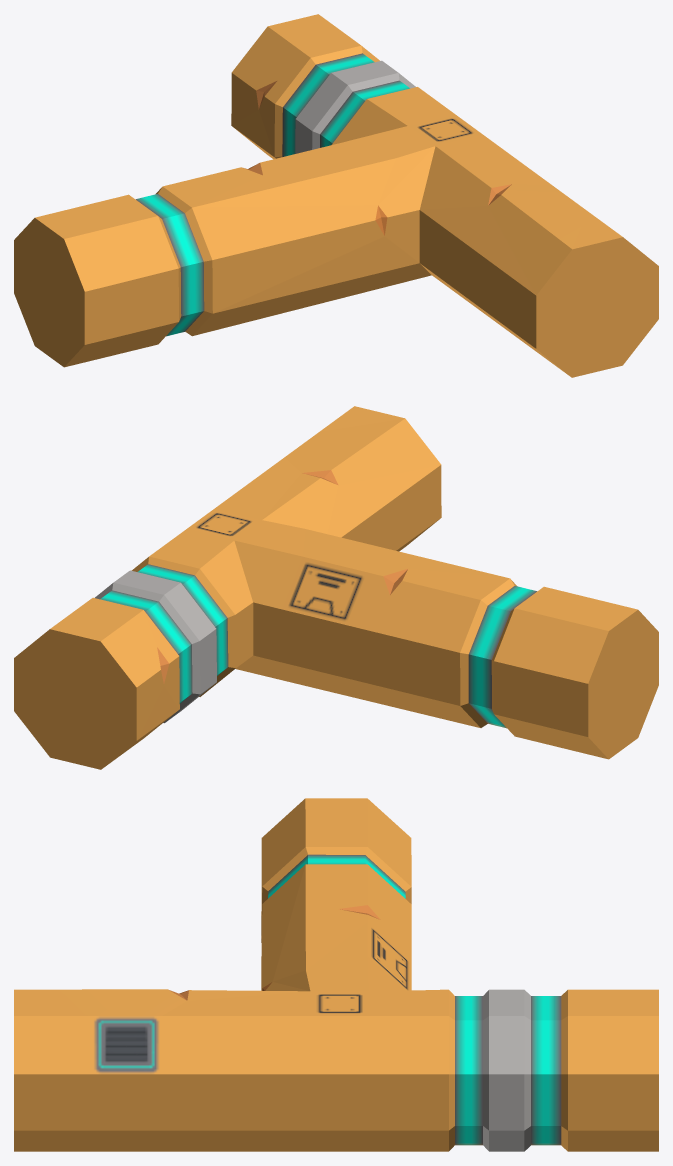
File: SM_Bld_Pipe_Small_TJunction_01.fbx
3 views of the same model, one above another, from view 1: azimuth 30°, elevation 25°; view 2: azimuth 150°, elevation 25°; view 3: azimuth 270°, elevation 25° (orthographic). The views are drawn at different scales.
Parts seen in each view (by area): view 1: SM_Bld_Pipe_Small_TJunction_01; view 2: SM_Bld_Pipe_Small_TJunction_01; view 3: SM_Bld_Pipe_Small_TJunction_01.
Boxes of the visible parts, x1,y1,x2,y2 form: SM_Bld_Pipe_Small_TJunction_01: (14,14,658,377); SM_Bld_Pipe_Small_TJunction_01: (14,406,658,769); SM_Bld_Pipe_Small_TJunction_01: (14,798,658,1151).
Bounding box in the file's own units: 173 × 46.92 × 200.
